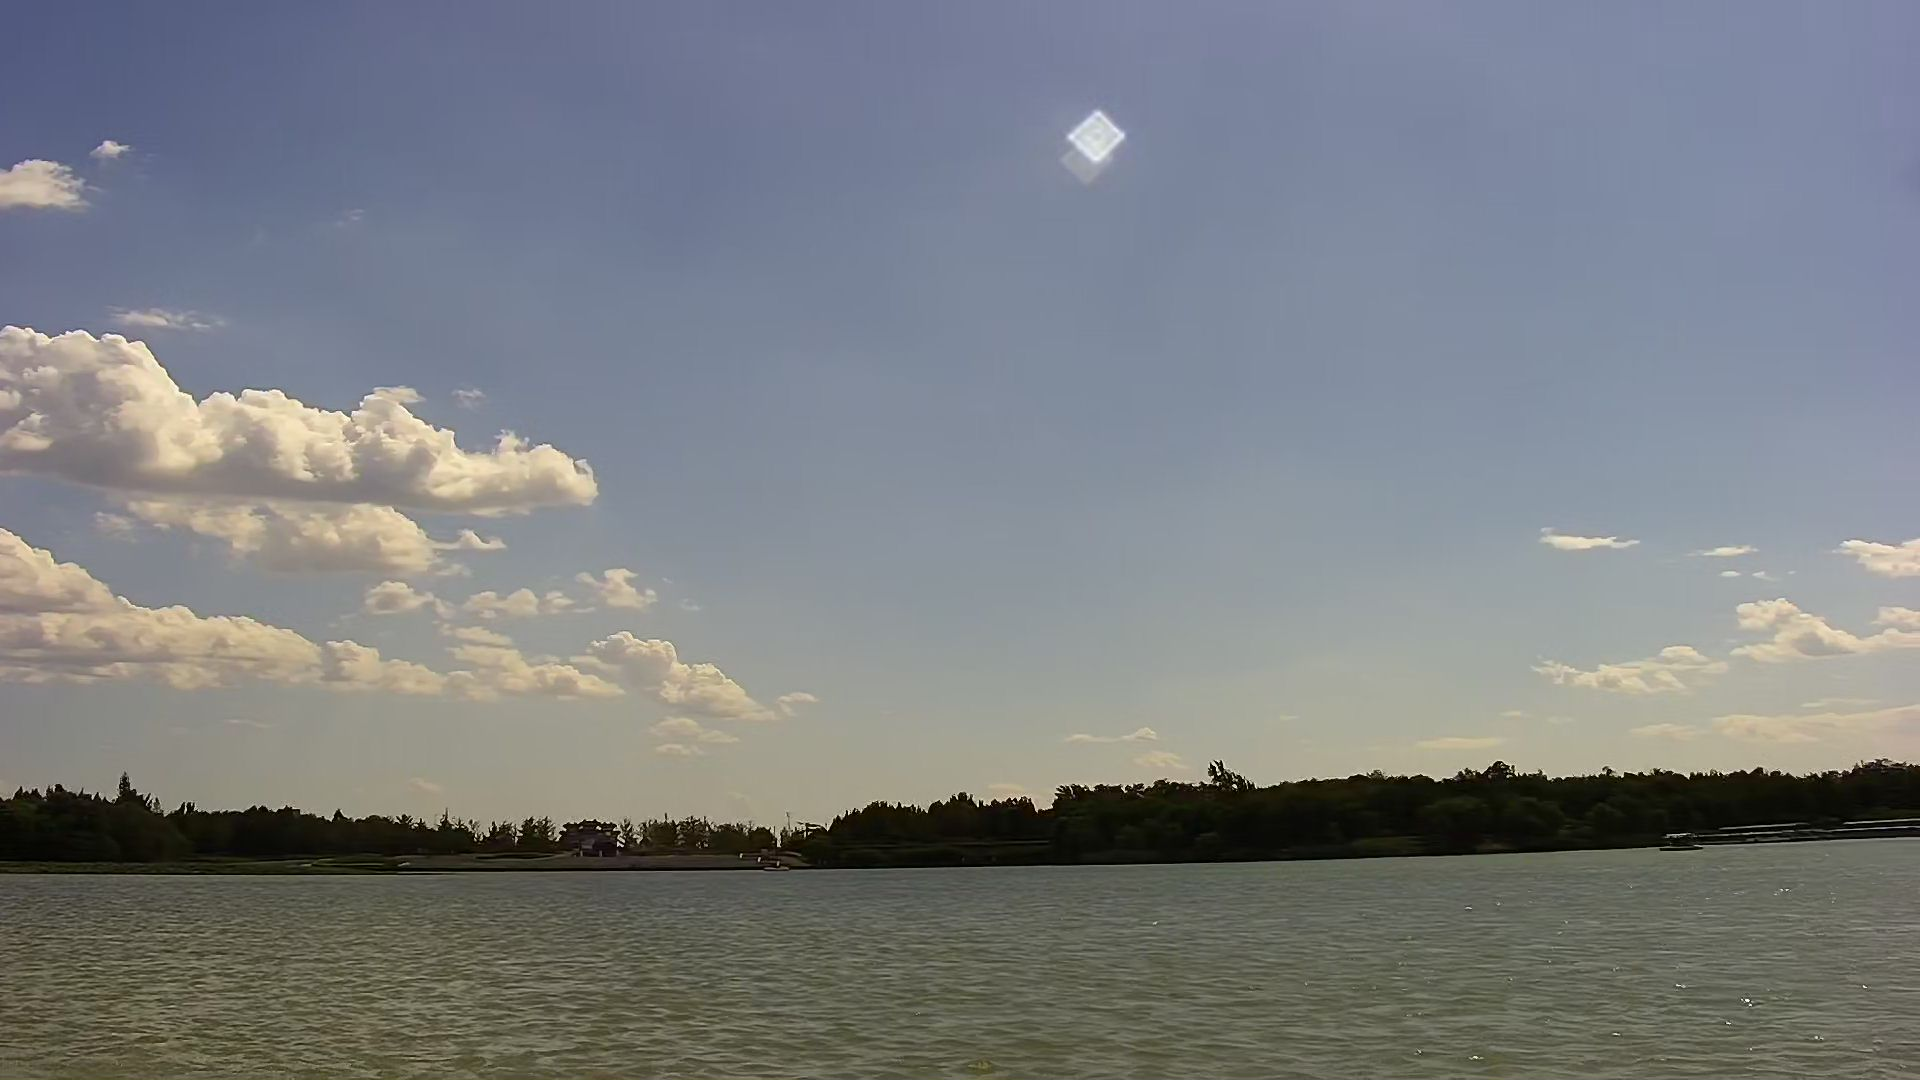boat: (1659, 825, 1698, 851)
harbor: (1716, 816, 1920, 843)
